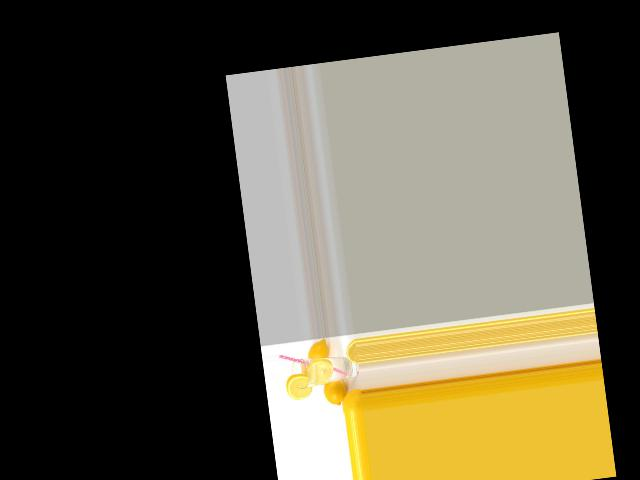lemon: (305, 339, 333, 365)
